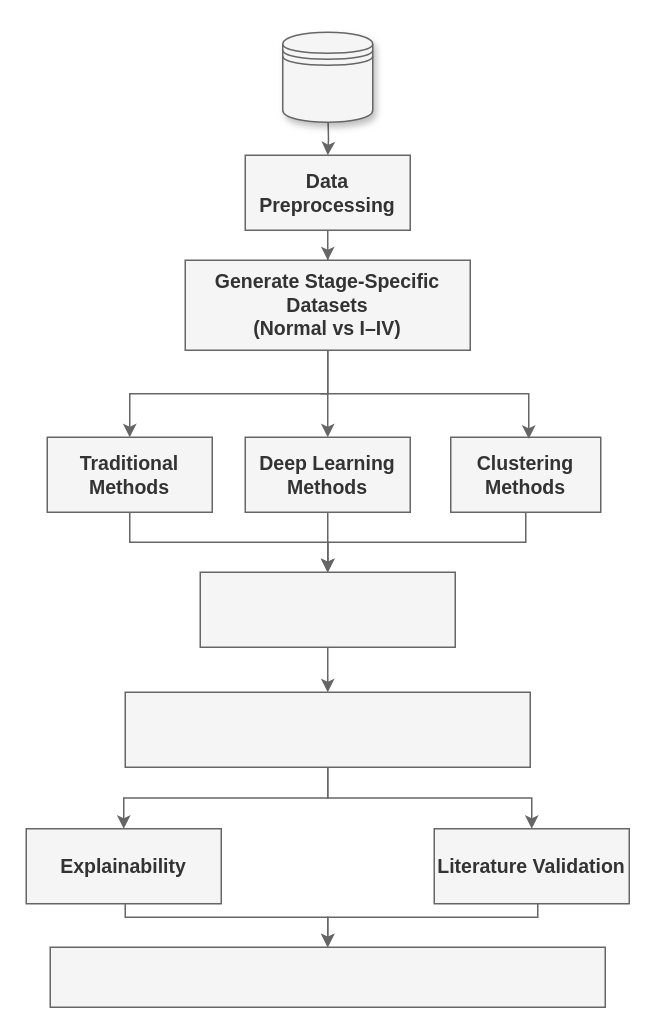
This 656x1034 diagram has some shape labels left out. Each missing label, with the centre of its shape:
"Breast Cancer Stage Classification" belongs at pixel 327 976.
"Final Consensus miRNA Panel (per stage)" belongs at pixel 327 609.
"GDC" belongs at pixel 328 79.
"Train & Evaluate Classifiers" belongs at pixel 327 729.
